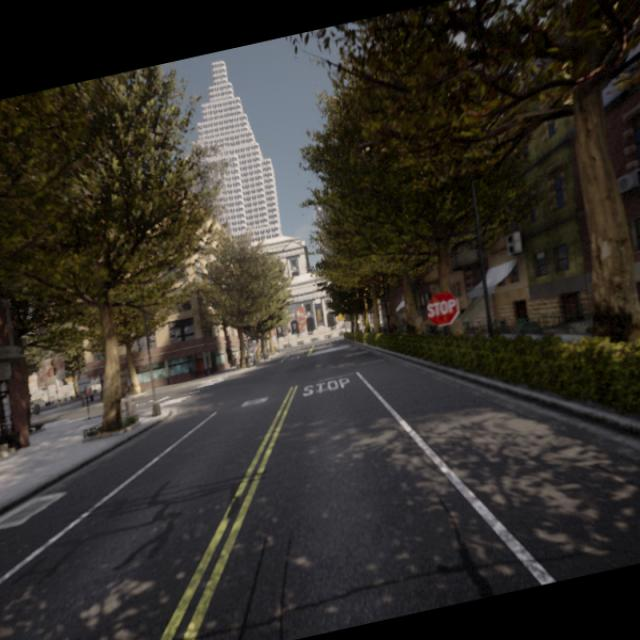stop sign: (423, 288, 461, 329)
